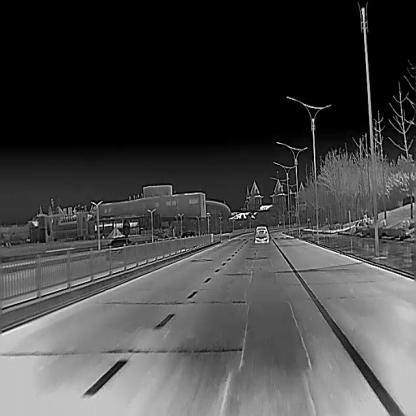car: (105, 236, 132, 260), (254, 225, 269, 245), (180, 230, 197, 244)
